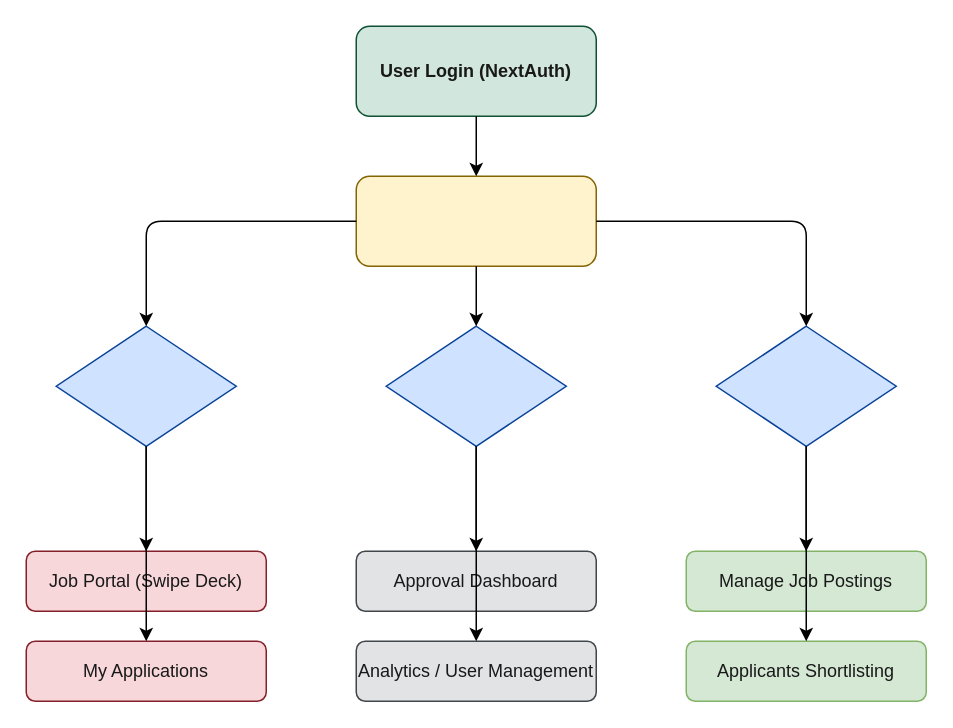
Image size: 953x728. Some labels were removed from this diagram. Here are the shapes that lost their labels. From the top down, the box of each, then its label:
(355, 175, 596, 266): Middleware.ts Route Protection
(55, 325, 236, 446): Role: Student
(385, 325, 566, 446): Role: Hierarchy Authority
(715, 325, 896, 446): Role: Company
